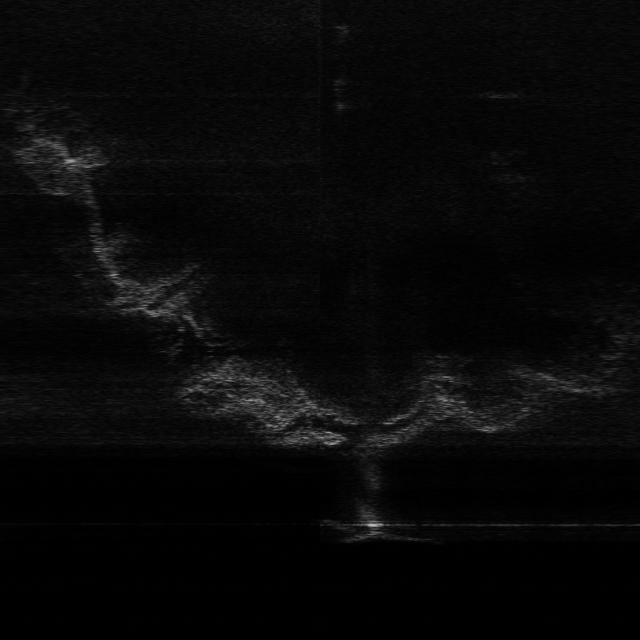plane: (321, 512, 437, 543)
